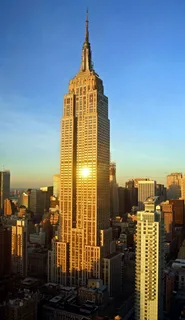high_rise_building: (51, 45, 118, 277)
